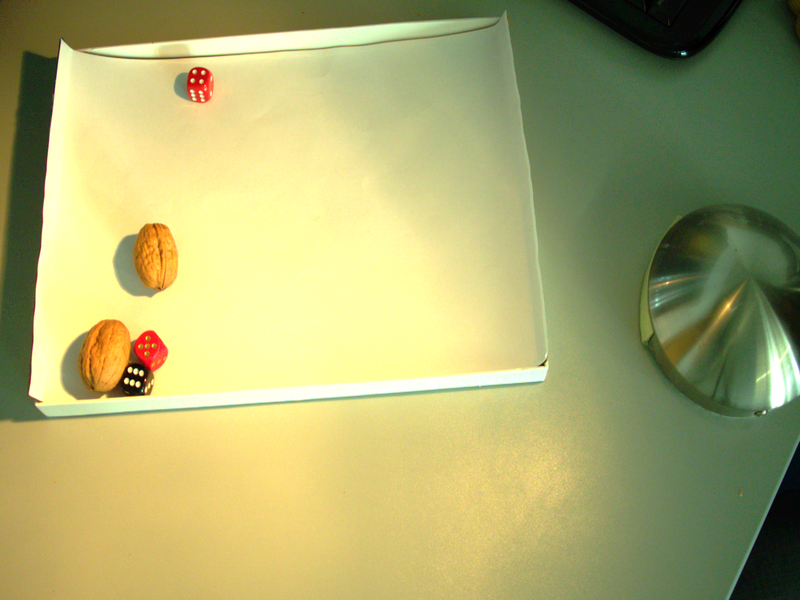walnut: (72, 314, 133, 397), (131, 216, 183, 296)
